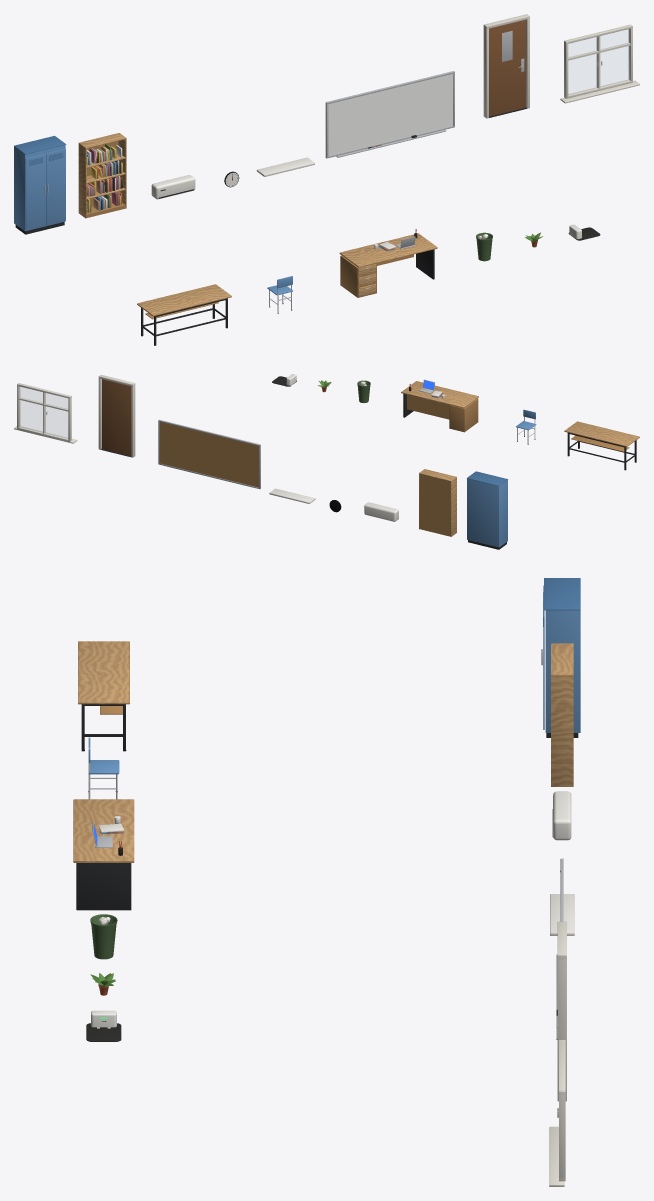
Rendered from props.glb.
The picture shows the model from 3 angles, top to bottom: view 1: azimuth 30°, elevation 25°; view 2: azimuth 150°, elevation 25°; view 3: azimuth 270°, elevation 25°; orthographic projection. The views are drawn at different scales.
Parts seen in each view (by area): view 1: prop_whiteboard_Whiteboard, prop_cabinet_Paint_Blue, DoorLeaf_Door_Paint, prop_window_Glass_Window, prop_window_Frame_Paint, prop_teacher_Wood_Oak, prop_shelf, prop_shelf_Wood_Oak, prop_table_Wood_Oak, prop_whiteboard_Aluminium, prop_door_Frame_Paint, prop_teacher_Wood_Edge (+4 smaller); view 2: prop_whiteboard_Wood_Edge, prop_cabinet_Paint_Blue, DoorLeaf_Door_Paint, prop_shelf_Wood_Edge, prop_window_Glass_Window, prop_teacher_Wood_Edge, prop_window_Frame_Paint, prop_table_Wood_Oak, prop_teacher_Wood_Oak, prop_door_Frame_Paint, prop_shelf_Wood_Oak, prop_whiteboard_Aluminium (+5 smaller); view 3: prop_teacher_Wood_Oak, prop_table_Wood_Oak, prop_shelf_Wood_Oak, prop_cabinet_Paint_Blue, prop_teacher_Steel_Dark, prop_window_Frame_Paint, prop_door_Frame_Paint, prop_cabinet_Paint_Blue_Dark, prop_bin_Plastic_Green, prop_ac_Paint_White, prop_light_Paint_White.
Boxes of the visible parts, left/top/right/bottom form: prop_whiteboard_Whiteboard: left=328, top=73, right=452, bottom=156; prop_cabinet_Paint_Blue: left=14, top=145, right=65, bottom=231; DoorLeaf_Door_Paint: left=489, top=19, right=525, bottom=116; prop_window_Glass_Window: left=568, top=29, right=629, bottom=94; prop_window_Frame_Paint: left=560, top=24, right=639, bottom=103; prop_teacher_Wood_Oak: left=339, top=233, right=437, bottom=296; prop_shelf: left=86, top=144, right=123, bottom=212; prop_shelf_Wood_Oak: left=78, top=133, right=126, bottom=218; prop_table_Wood_Oak: left=137, top=284, right=231, bottom=316; prop_whiteboard_Aluminium: left=325, top=71, right=454, bottom=158; prop_door_Frame_Paint: left=483, top=14, right=529, bottom=118; prop_teacher_Wood_Edge: left=340, top=254, right=413, bottom=297; prop_whiteboard_Wood_Edge: left=159, top=422, right=258, bottom=487; prop_cabinet_Paint_Blue: left=467, top=478, right=507, bottom=547; DoorLeaf_Door_Paint: left=102, top=379, right=131, bottom=455; prop_shelf_Wood_Edge: left=419, top=474, right=450, bottom=536; prop_window_Glass_Window: left=19, top=387, right=67, bottom=438; prop_teacher_Wood_Edge: left=407, top=394, right=478, bottom=432; prop_window_Frame_Paint: left=14, top=383, right=77, bottom=443; prop_table_Wood_Oak: left=564, top=421, right=639, bottom=446; prop_teacher_Wood_Oak: left=401, top=381, right=478, bottom=408; prop_door_Frame_Paint: left=98, top=375, right=135, bottom=457; prop_shelf_Wood_Oak: left=419, top=469, right=456, bottom=536; prop_whiteboard_Aluminium: left=158, top=419, right=260, bottom=488; prop_teacher_Wood_Oak: left=73, top=799, right=134, bottom=862; prop_table_Wood_Oak: left=78, top=641, right=129, bottom=704; prop_shelf_Wood_Oak: left=551, top=643, right=573, bottom=786; prop_cabinet_Paint_Blue: left=543, top=585, right=580, bottom=732; prop_teacher_Steel_Dark: left=76, top=863, right=131, bottom=910; prop_window_Frame_Paint: left=549, top=1040, right=565, bottom=1186; prop_door_Frame_Paint: left=557, top=921, right=566, bottom=1101; prop_cabinet_Paint_Blue_Dark: left=543, top=578, right=580, bottom=626; prop_bin_Plastic_Green: left=90, top=914, right=117, bottom=959; prop_ac_Paint_White: left=553, top=791, right=571, bottom=840; prop_light_Paint_White: left=550, top=894, right=574, bottom=935.
Size of the model in its own units: 15.25 by 2.28 by 6.64.
43 materials, 1 textured.
